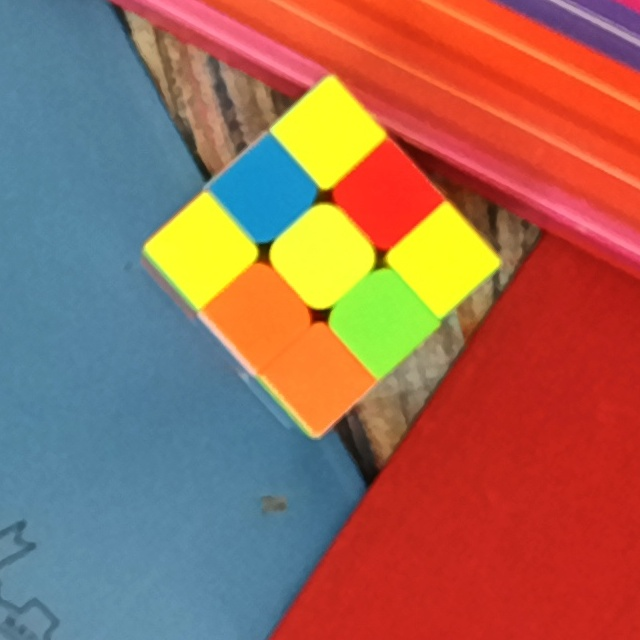tile: (353, 291, 411, 349), (358, 169, 415, 228), (236, 163, 292, 222), (231, 288, 286, 346), (297, 225, 351, 284), (178, 222, 231, 279), (300, 105, 354, 160), (294, 353, 348, 407), (414, 236, 468, 288)
